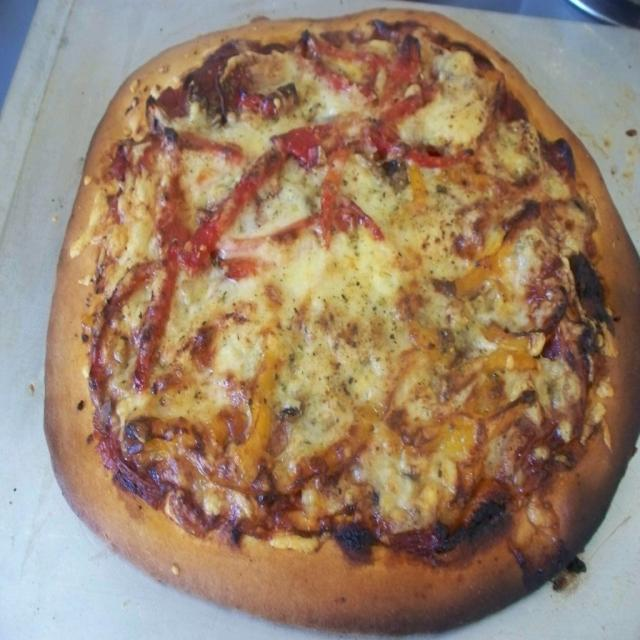Pizza: (40, 1, 640, 637)
